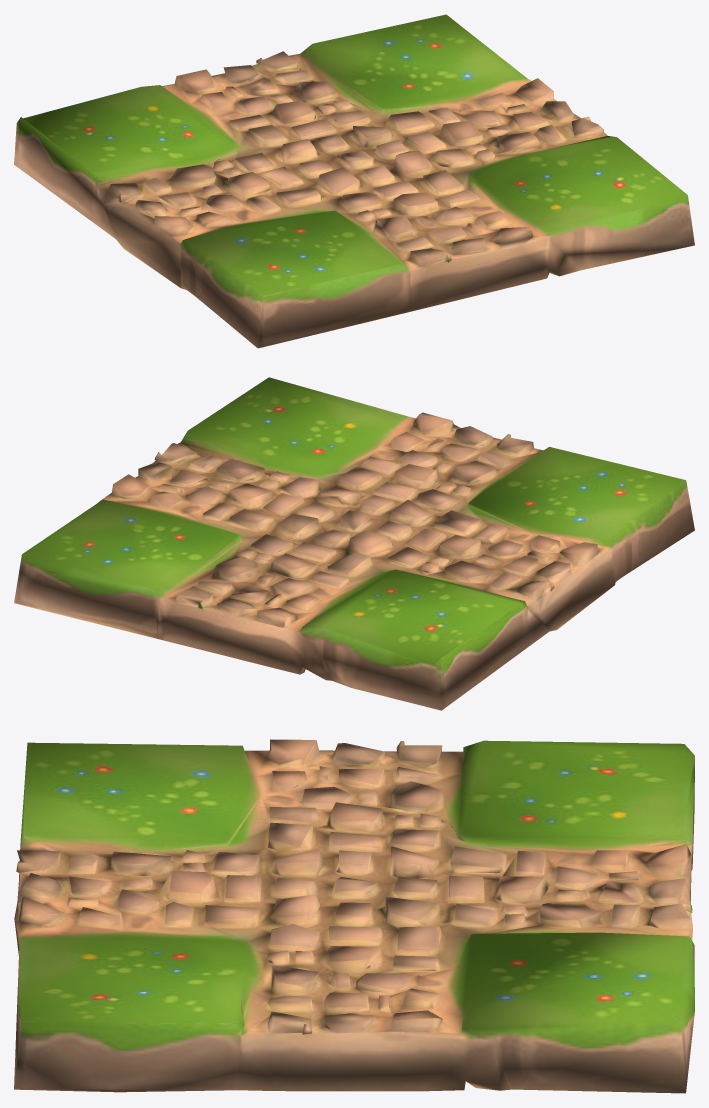
The model's file is path-cross.glb.
3 renders of one model, top to bottom at view 1: azimuth 30°, elevation 25°; view 2: azimuth 150°, elevation 25°; view 3: azimuth 270°, elevation 25°, orthographic. The views are drawn at different scales.
Parts seen in each view (by area): view 1: Mesh1.0; view 2: Mesh1.0; view 3: Mesh1.0.
Boxes of the visible parts, x1,y1,x2,y2 form: Mesh1.0: (14, 14, 694, 348); Mesh1.0: (14, 377, 694, 710); Mesh1.0: (14, 739, 694, 1093).
Bounding box in the file's own units: 1.89 × 0.2252 × 1.89.
Materials: 1 (1 with a texture image).
